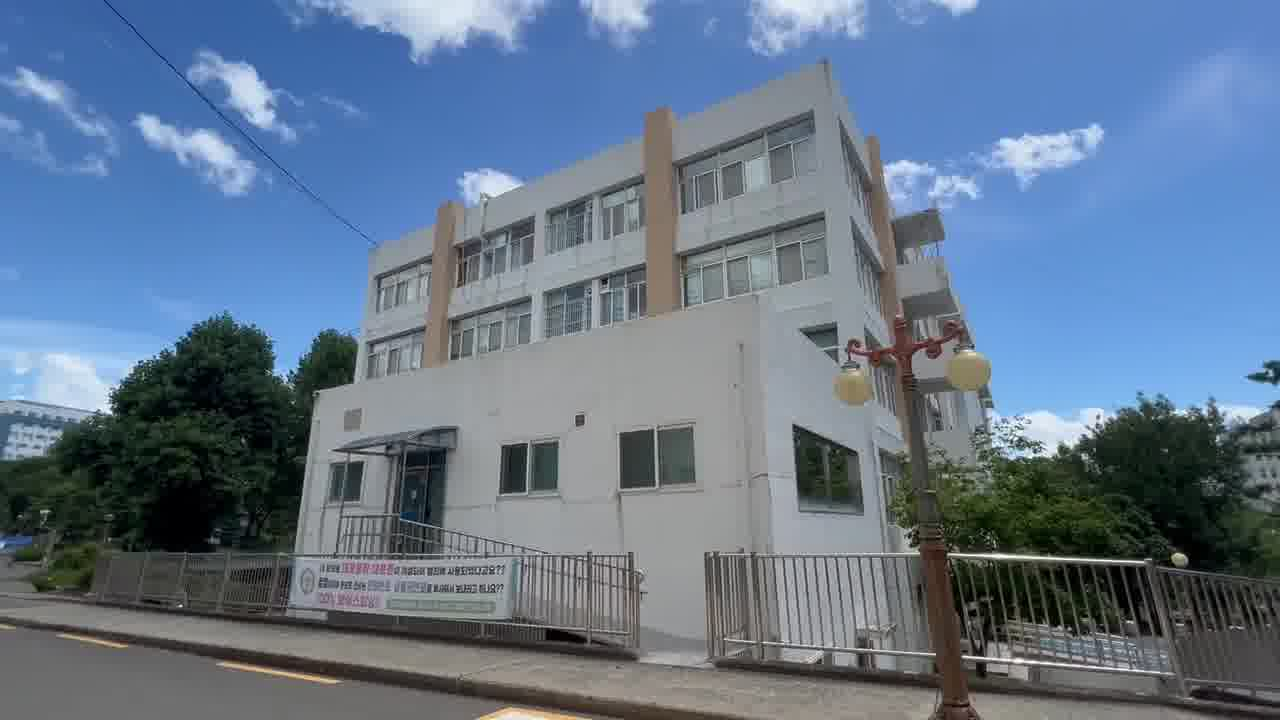low: (323, 98, 896, 559)
